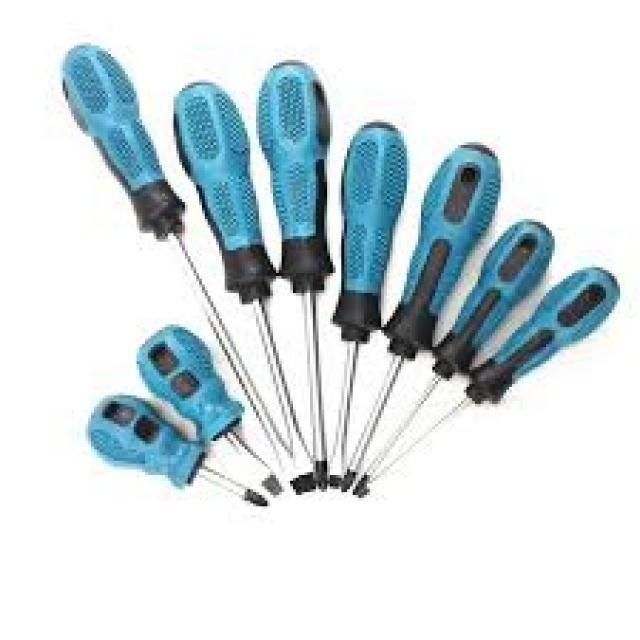screwdriver: (50, 39, 312, 496), (166, 72, 320, 494), (355, 262, 623, 500), (346, 129, 510, 502), (347, 215, 555, 502), (246, 49, 331, 500), (322, 110, 412, 503), (128, 316, 284, 495), (81, 392, 275, 512)
